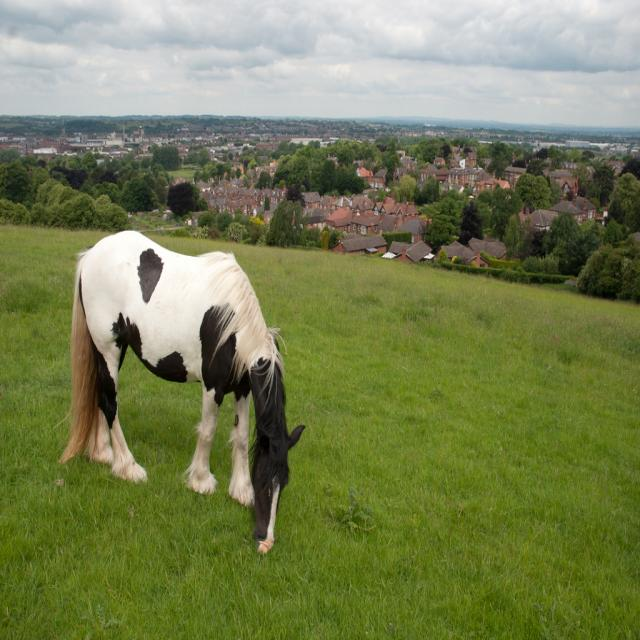Horse: (55, 229, 308, 556)
